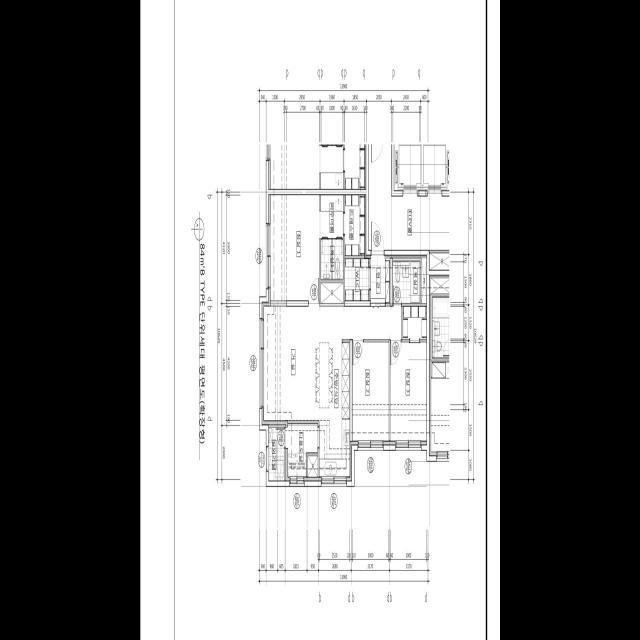background: (140, 0, 500, 640)
space_bedroom: (268, 195, 319, 301), (352, 342, 389, 445), (390, 342, 426, 445)
space_dressroom: (344, 195, 365, 256), (403, 307, 426, 339)
space_elevator: (394, 144, 422, 191), (422, 144, 449, 191)
space_elevator_hall: (368, 144, 449, 250)
space_front: (370, 256, 390, 304)
space_kitchen: (314, 342, 351, 481)
space_living_room: (262, 303, 401, 425)
space_multipurpose_space: (286, 423, 318, 481)
space_other: (344, 259, 369, 301), (320, 283, 343, 304), (429, 253, 449, 270), (308, 456, 318, 481), (421, 256, 426, 304)
space_outdoor_room: (268, 427, 284, 481)
space_toilet: (320, 195, 343, 280), (392, 261, 420, 304)
